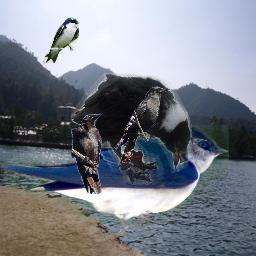Crow: (71, 73, 192, 185), (113, 86, 170, 163), (71, 113, 102, 194)
Swallow: (0, 125, 229, 238), (44, 17, 79, 63)
